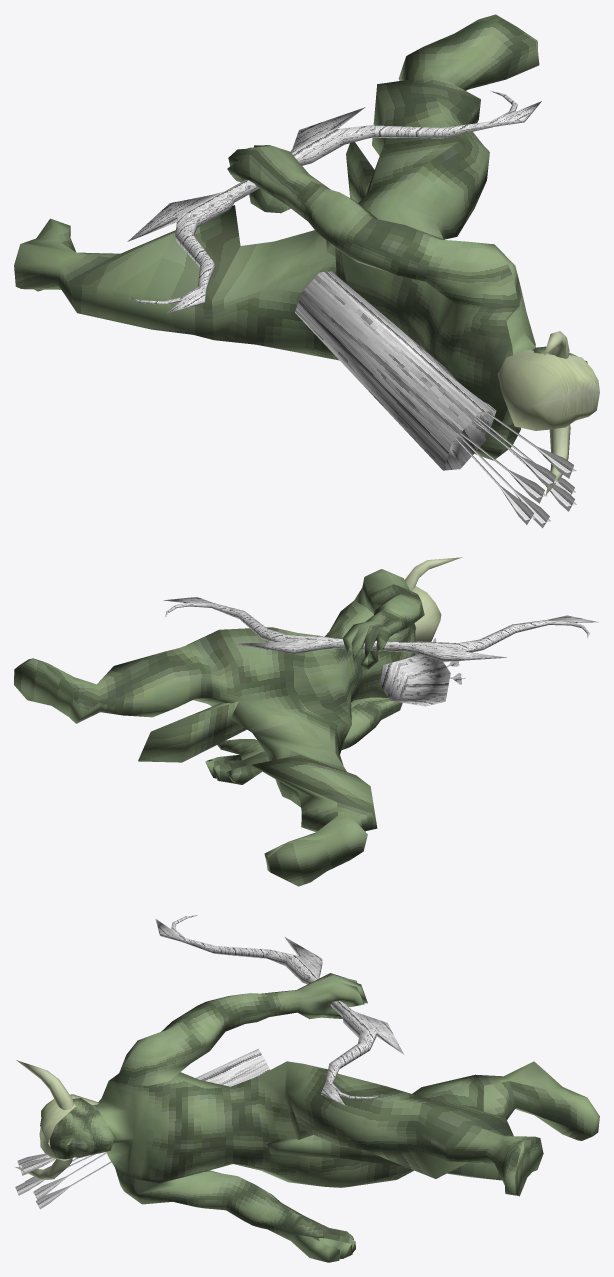
The model's file is meghnaad_000109.obj.
3 views of the same model, one above another, from view 1: azimuth 30°, elevation 25°; view 2: azimuth 150°, elevation 25°; view 3: azimuth 270°, elevation 25° (orthographic). The views are drawn at different scales.
Parts seen in each view (by area): view 1: body_mesh15-geometry, quiver_Cylinder, bow_Cylinder.001, hair_mesh18-geometry, horn.000_Cone; view 2: body_mesh15-geometry, bow_Cylinder.001, quiver_Cylinder, hair_mesh18-geometry, horn.000_Cone; view 3: body_mesh15-geometry, bow_Cylinder.001, quiver_Cylinder, horn.000_Cone, hair_mesh18-geometry.
Part boxes in pixels (left/top/right/bottom): body_mesh15-geometry: left=14, top=14, right=587, bottom=460; quiver_Cylinder: left=295, top=271, right=576, bottom=528; bow_Cylinder.001: left=126, top=91, right=541, bottom=314; hair_mesh18-geometry: left=497, top=349, right=599, bottom=430; horn.000_Cone: left=544, top=331, right=570, bottom=494; body_mesh15-geometry: left=14, top=569, right=424, bottom=886; bow_Cylinder.001: left=163, top=597, right=598, bottom=661; quiver_Cylinder: left=379, top=638, right=465, bottom=706; hair_mesh18-geometry: left=412, top=586, right=441, bottom=641; horn.000_Cone: left=405, top=557, right=461, bottom=654; body_mesh15-geometry: left=49, top=973, right=599, bottom=1262; bow_Cylinder.001: left=155, top=915, right=404, bottom=1105; quiver_Cylinder: left=15, top=1048, right=269, bottom=1209; horn.000_Cone: left=14, top=1060, right=73, bottom=1180; hair_mesh18-geometry: left=39, top=1094, right=98, bottom=1160.
Size of the model in its own units: 2.23 by 0.9575 by 2.41.
